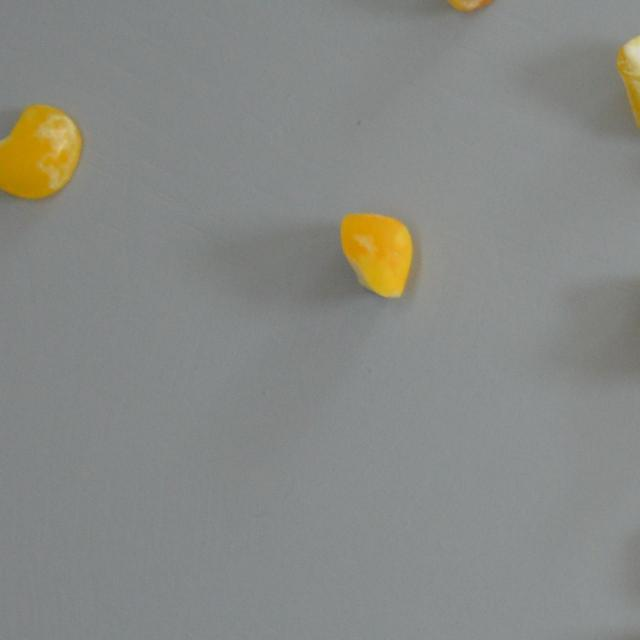dañado: (614, 30, 640, 142)
pelicula: (316, 206, 446, 303), (0, 102, 92, 199)
punto_negro: (430, 0, 544, 11)
